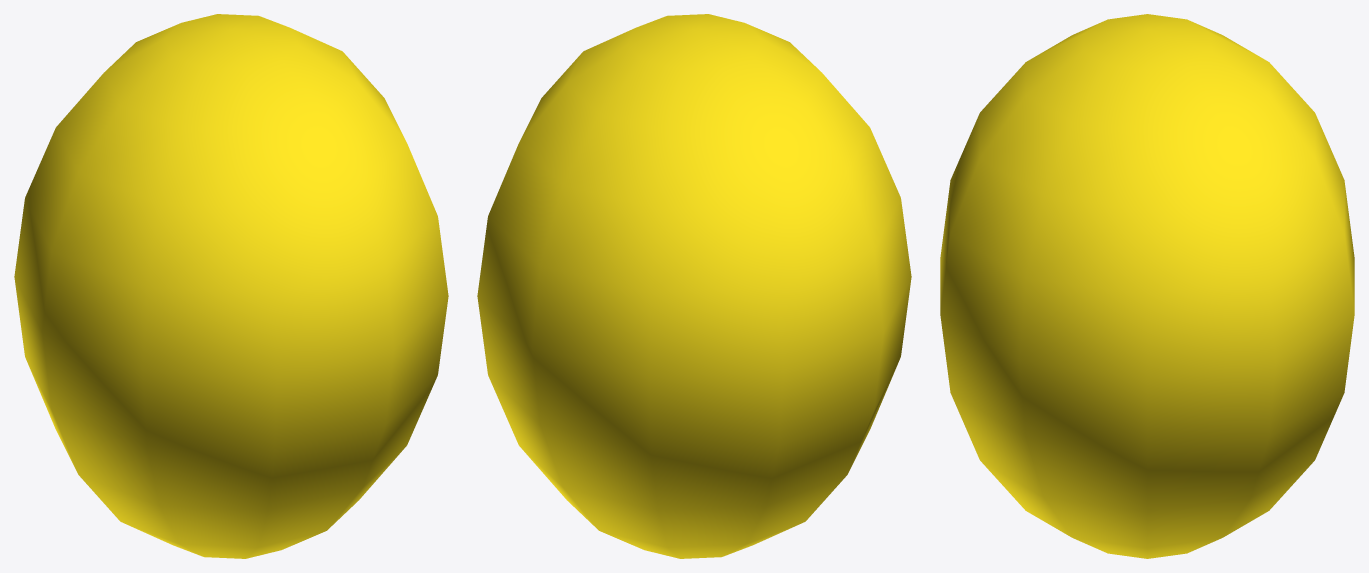
File: voltkit_stage2.obj
3 views of the same model, side by side, from view 1: azimuth 30°, elevation 25°; view 2: azimuth 150°, elevation 25°; view 3: azimuth 270°, elevation 25° (orthographic).
Bounding box in the file's own units: 2 × 2.6 × 1.9.
